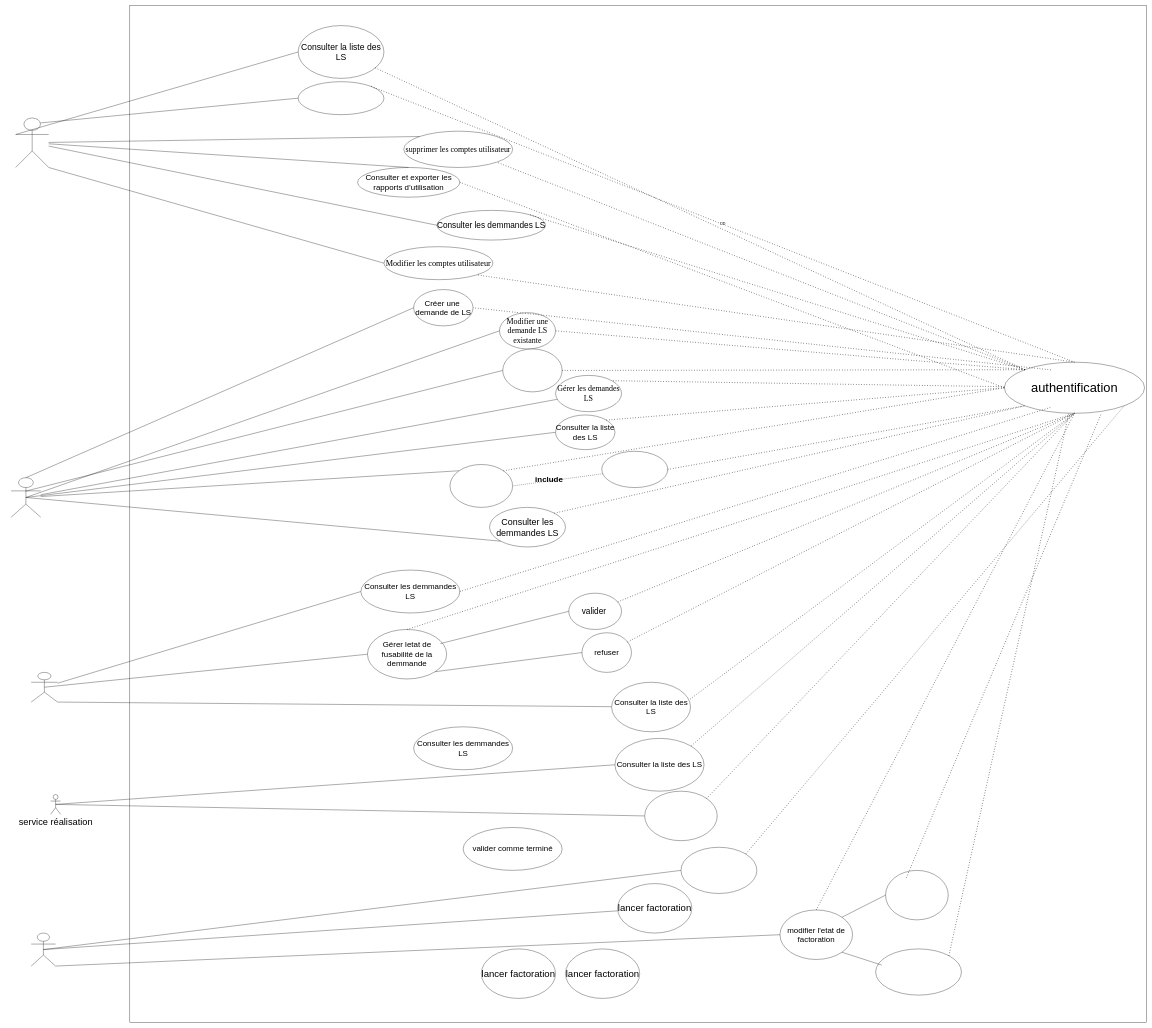
Image size: 1152x1028. Some labels were removed from this diagram. Here are the shapes that lost their labels. From the top down, the box of each, then its label:
(298, 81, 384, 115): Créer des comptes utilisateurs
(15, 118, 49, 167): Admin
(502, 349, 562, 392): Supprimer une demande LS existante
(450, 464, 513, 507): inseer contrat
(601, 451, 668, 488): Conformer la demmande de LS avec le client
(11, 477, 41, 517): corporate
(31, 672, 58, 702): service etude
(644, 791, 717, 841): envoyer ls au service comercial
(681, 847, 757, 893): afficter ND au LS
(885, 870, 948, 920): commancé la factoration
(31, 933, 56, 966): service comercial
(875, 949, 961, 995): aretter la factoration
